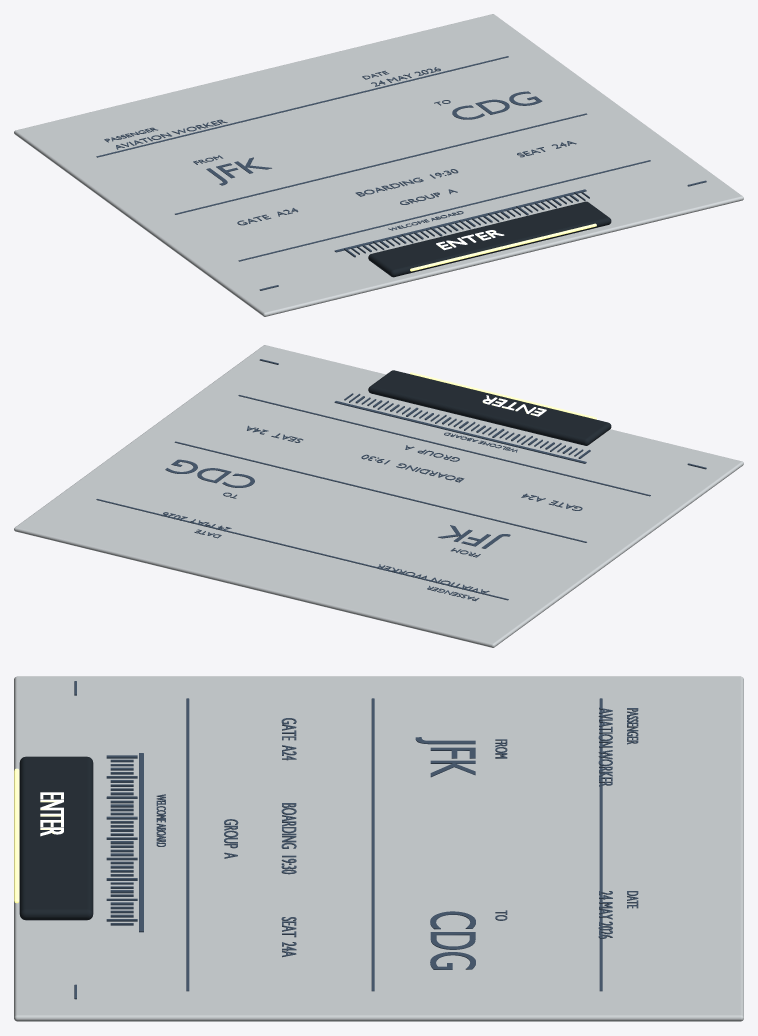
The model's file is jmpseat-ticket-plane.glb.
3 renders of one model, top to bottom at view 1: azimuth 30°, elevation 25°; view 2: azimuth 150°, elevation 25°; view 3: azimuth 270°, elevation 25°, orthographic. The views are drawn at different scales.
Parts seen in each view (by area): view 1: ticket_plane, ticket_cta_physical_plate, ticket_subtle_top_rule, ticket_subtle_mid_rule, ticket_subtle_bottom_rule, ticket_cta_amber_edge, ticket_barcode_rule, ticket_value_to; view 2: ticket_plane, ticket_cta_physical_plate, ticket_subtle_mid_rule, ticket_subtle_bottom_rule, ticket_barcode_rule, ticket_subtle_top_rule, ticket_value_to, ticket_cta_amber_edge; view 3: ticket_plane, ticket_cta_physical_plate, ticket_value_to, ticket_subtle_mid_rule, ticket_subtle_bottom_rule, ticket_value_from, ticket_subtle_top_rule, ticket_barcode_rule, ticket_cta_amber_edge, ticket_value_passenger, ticket_cta_enter_text, ticket_label_boarding.
Boxes of the visible parts, box(x1,y1,x2,y2) form: ticket_plane: box(14, 14, 743, 316); ticket_cta_physical_plate: box(368, 201, 611, 277); ticket_subtle_top_rule: box(96, 56, 508, 157); ticket_subtle_mid_rule: box(175, 113, 587, 214); ticket_subtle_bottom_rule: box(238, 160, 650, 261); ticket_cta_amber_edge: box(410, 223, 596, 271); ticket_barcode_rule: box(334, 189, 586, 252); ticket_value_to: box(452, 91, 542, 119); ticket_plane: box(14, 345, 743, 647); ticket_cta_physical_plate: box(368, 370, 611, 445); ticket_subtle_mid_rule: box(174, 441, 586, 542); ticket_subtle_bottom_rule: box(238, 395, 650, 496); ticket_barcode_rule: box(334, 401, 586, 463); ticket_subtle_top_rule: box(96, 499, 508, 600); ticket_value_to: box(165, 459, 254, 487); ticket_cta_amber_edge: box(410, 372, 596, 419); ticket_plane: box(14, 676, 743, 1021); ticket_cta_physical_plate: box(19, 756, 93, 920); ticket_value_to: box(430, 911, 475, 969); ticket_subtle_mid_rule: box(371, 698, 374, 991); ticket_subtle_bottom_rule: box(186, 698, 189, 991); ticket_value_from: box(415, 737, 475, 777); ticket_subtle_top_rule: box(599, 698, 602, 991); ticket_barcode_rule: box(139, 753, 143, 932); ticket_cta_amber_edge: box(14, 768, 19, 903); ticket_value_passenger: box(598, 707, 612, 786); ticket_cta_enter_text: box(40, 792, 63, 836); ticket_label_boarding: box(281, 803, 296, 874).
Size of the model in its own units: 4.18 by 0.1335 by 3.78.
